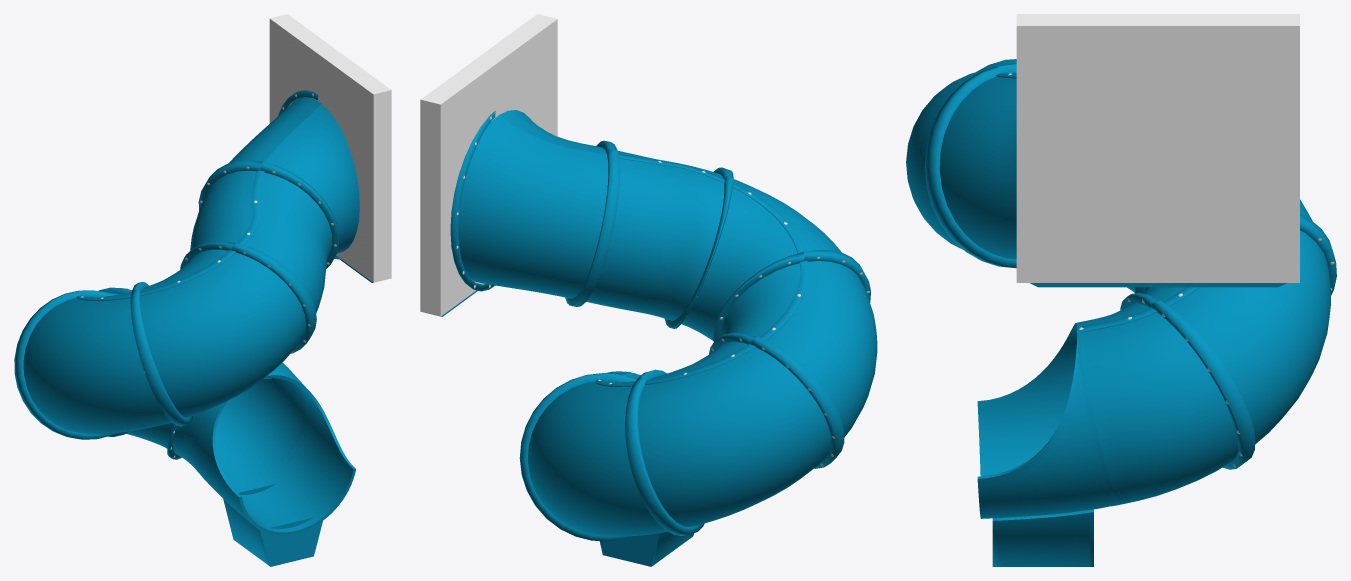
File: TTWS-5.ee85a15a.glb
The picture shows the model from 3 angles, left to right: view 1: azimuth 30°, elevation 25°; view 2: azimuth 150°, elevation 25°; view 3: azimuth 270°, elevation 25°; orthographic projection. The views are drawn at different scales.
Visible parts, largest first — view 1: Turbo_Twister_Slider001,_colorize_, joint_c,1,6; view 2: Turbo_Twister_Slider001,_colorize_, joint_c,1,6; view 3: Turbo_Twister_Slider001,_colorize_, joint_c,1,6.
Boxes of the visible parts, x1,y1,x2,y2 form: Turbo_Twister_Slider001,_colorize_: (14,90,372,566); joint_c,1,6: (269,14,391,282); Turbo_Twister_Slider001,_colorize_: (441,110,877,566); joint_c,1,6: (420,14,557,316); Turbo_Twister_Slider001,_colorize_: (906,59,1336,566); joint_c,1,6: (1016,14,1299,282).
Bounding box in the file's own units: 1.79 × 2.33 × 1.52.
